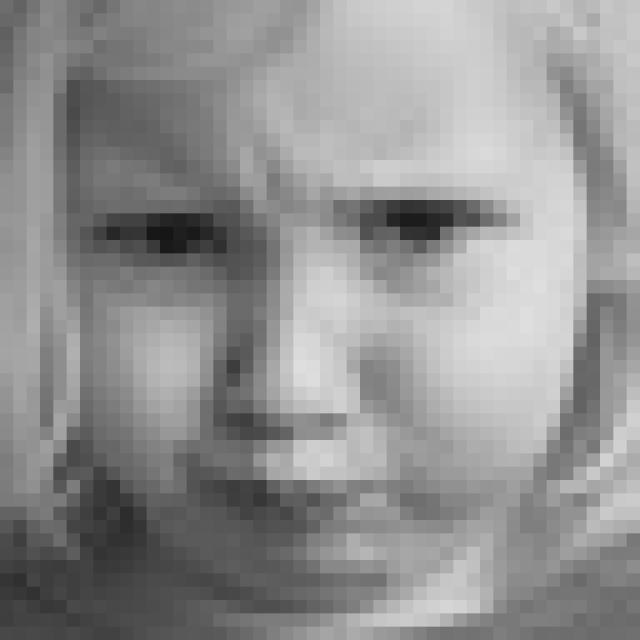disgust: (88, 175, 521, 568)
